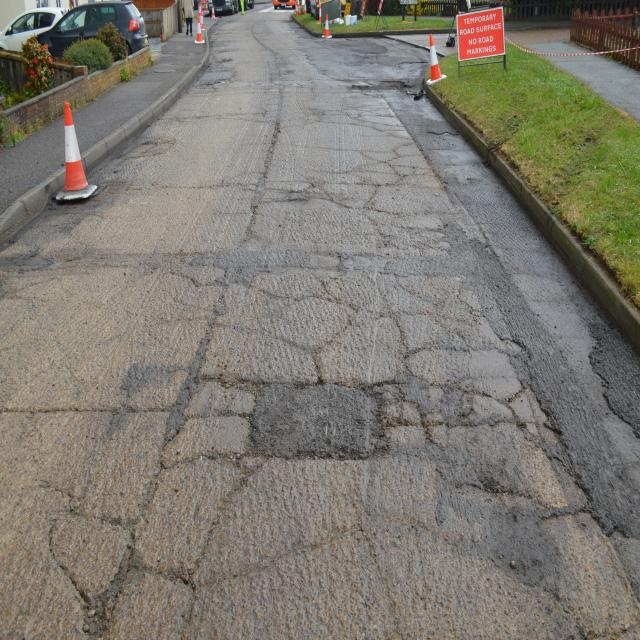Drain Hole: (279, 185, 572, 530)
